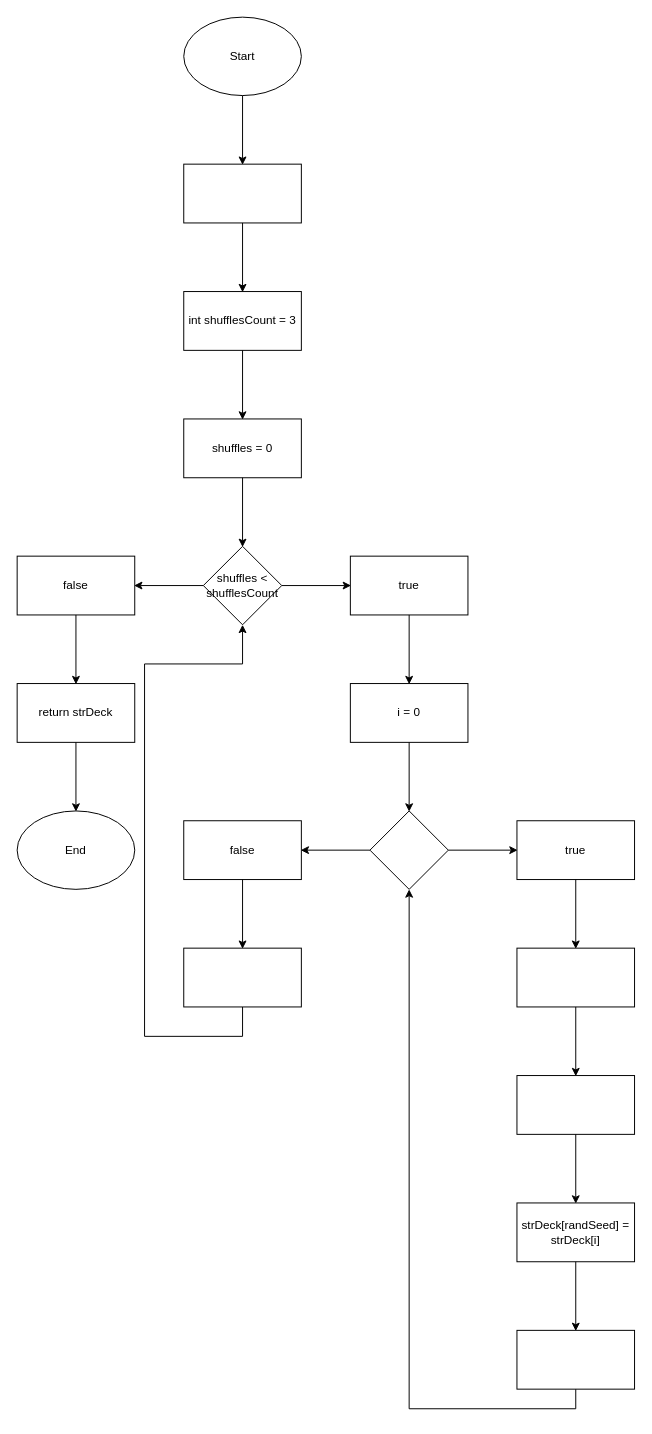
This 652x1434 diagram has some shape labels left out. The centre of each missing label's shape, as x and y in pixels:
i < strDeck.length: the point at 408,849
randSeed = Math.random() *strDeck.length: the point at 575,977
shuffles++: the point at 242,977
strDeck[i] = temp: the point at 575,1359
String [] strDeck (this is the parameter): the point at 242,193
string temp = strDeck[randSeed]: the point at 575,1104
